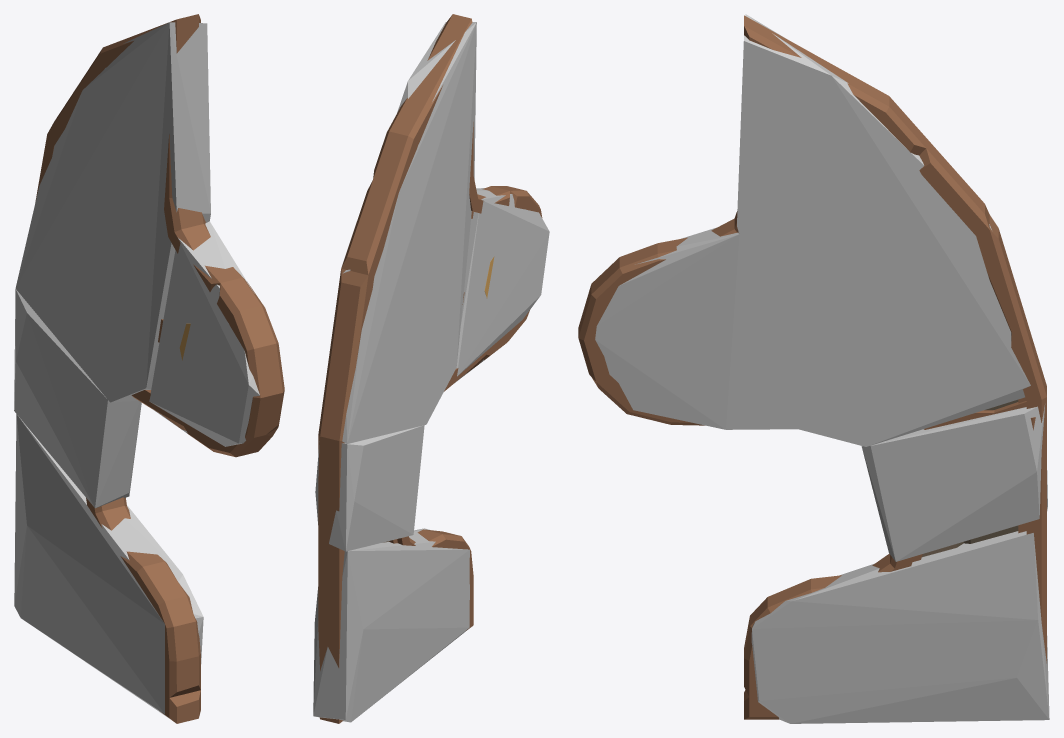
File: SM_Bld_Double_Door_Left_02.fbx
3 renders of one model, left to right at view 1: azimuth 30°, elevation 25°; view 2: azimuth 150°, elevation 25°; view 3: azimuth 270°, elevation 25°, orthographic. The views are drawn at different scales.
Parts seen in each view (by area): view 1: SM_Bld_Double_Door_Left_02_ConvexHulls, SM_Bld_Double_Door_Left_02; view 2: SM_Bld_Double_Door_Left_02_ConvexHulls, SM_Bld_Double_Door_Left_02; view 3: SM_Bld_Double_Door_Left_02_ConvexHulls, SM_Bld_Double_Door_Left_02.
Boxes of the visible parts, x1,y1,x2,y2 form: SM_Bld_Double_Door_Left_02_ConvexHulls: (14,22,259,718); SM_Bld_Double_Door_Left_02: (35,14,284,723); SM_Bld_Double_Door_Left_02_ConvexHulls: (313,22,549,722); SM_Bld_Double_Door_Left_02: (318,14,542,723); SM_Bld_Double_Door_Left_02_ConvexHulls: (595,14,1049,723); SM_Bld_Double_Door_Left_02: (578,15,1046,719).
Size of the model in its own units: 17.49 by 160 by 260.
Materials: 2 (1 with a texture image).
